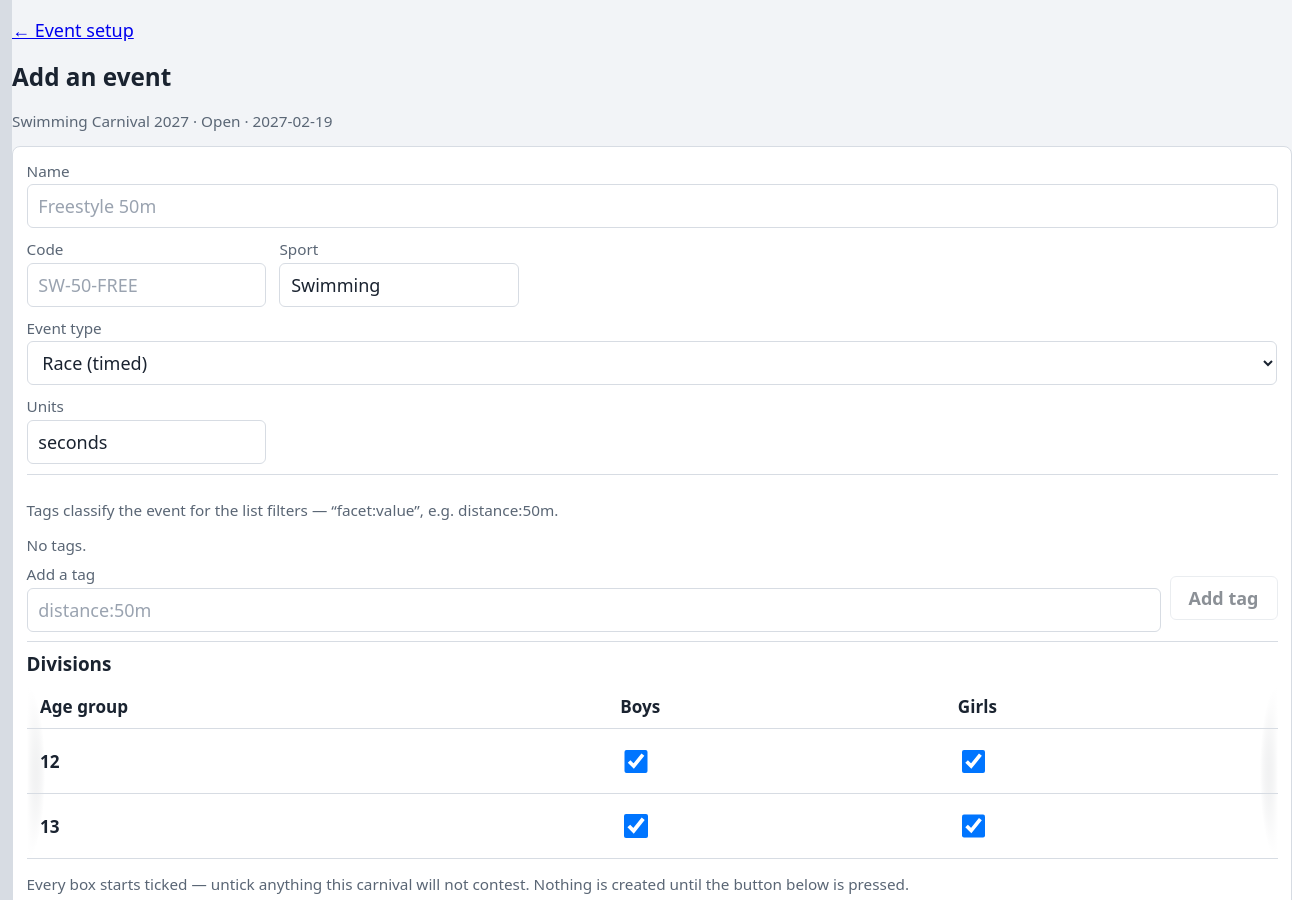
Scenario: NewEventScreen › clears the suggestions when the type moves off the bar ladder
Expected: the field labelled "Name" is shown, [26,184,1278,228]
Select "Field — bar ladder (vertical jump)" in the dropdown labelled "Event type" at (652, 363), box [26,341,1278,385]
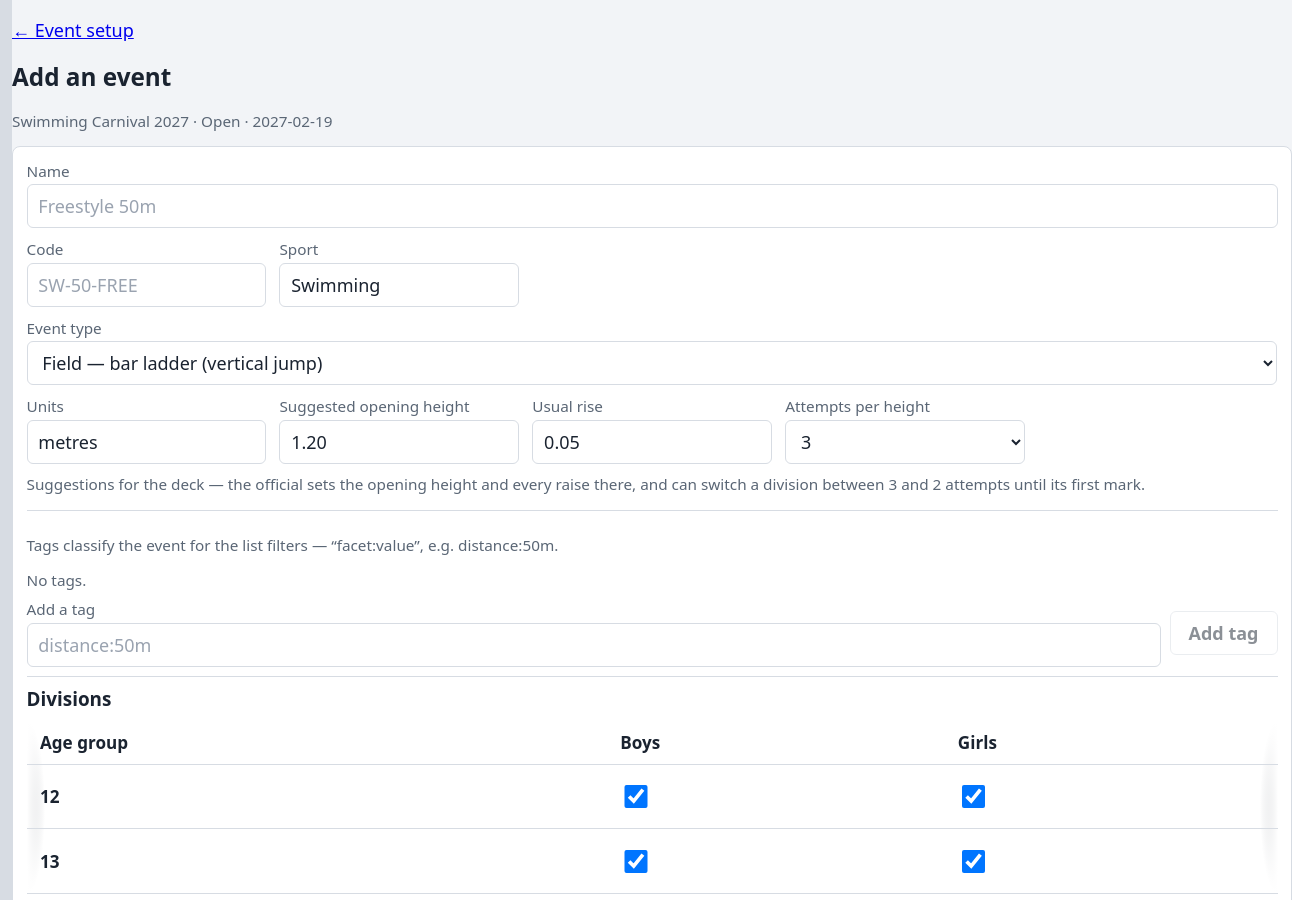
Select "Field — best of attempts (distance)" in the dropdown labelled "Event type" at (652, 363), box [26,341,1278,385]
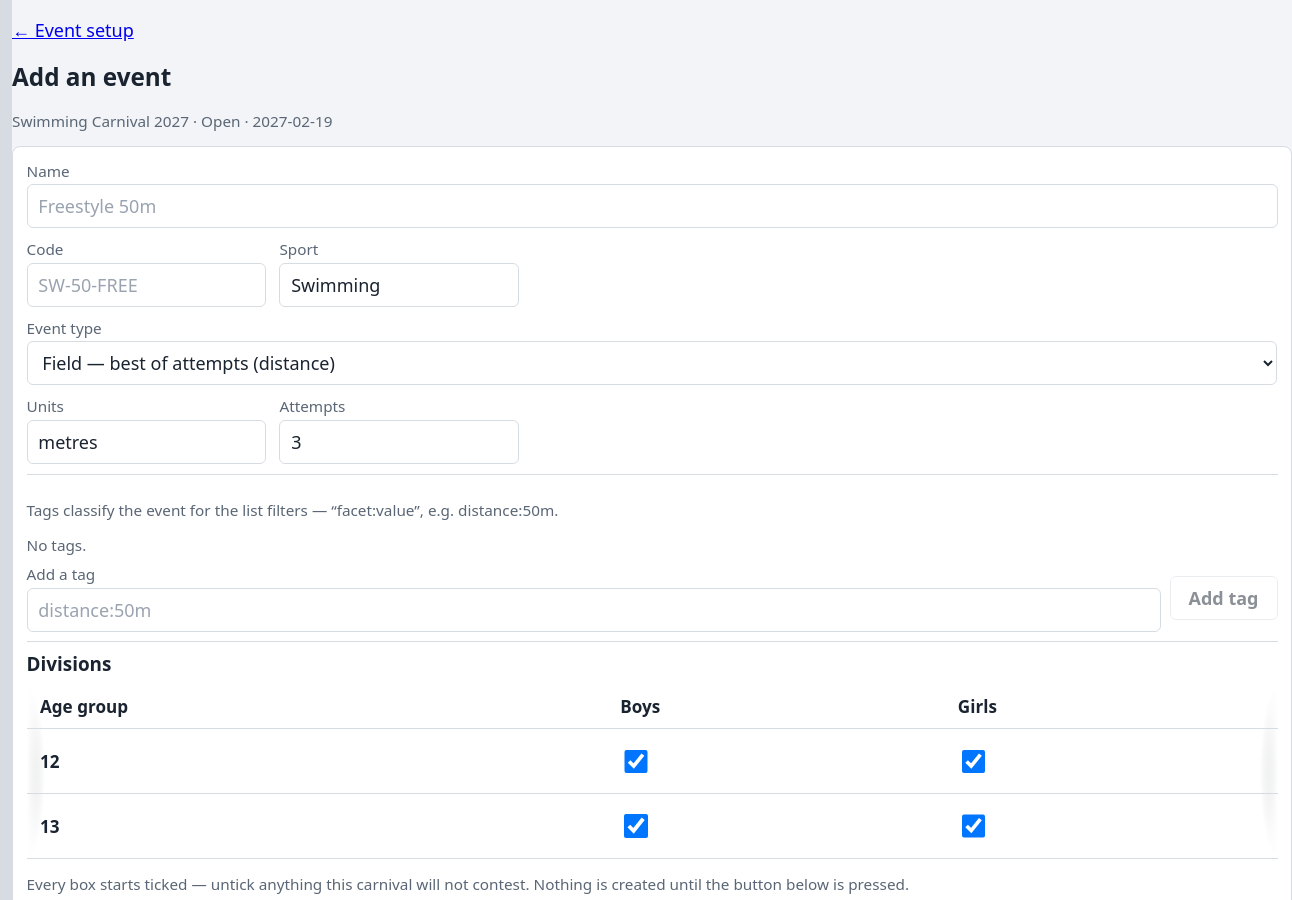
Expected: the text labelled "Suggested opening height" is gone
Select "Field — bar ladder (vertical jump)" in the dropdown labelled "Event type" at (652, 363), box [26,341,1278,385]
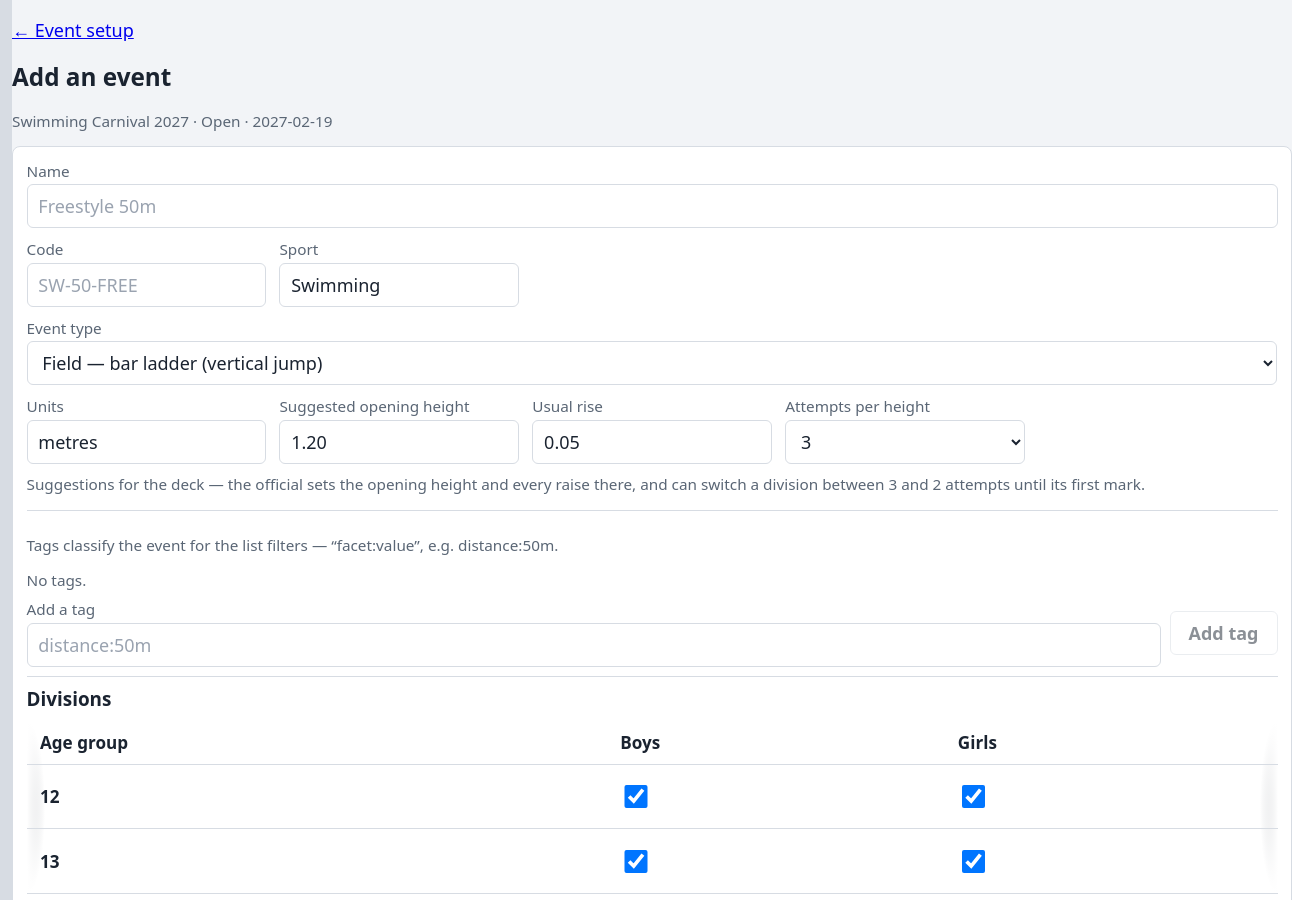
Expected: the number field labelled "Suggested opening height" holds "1.20", [279,420,519,464]
